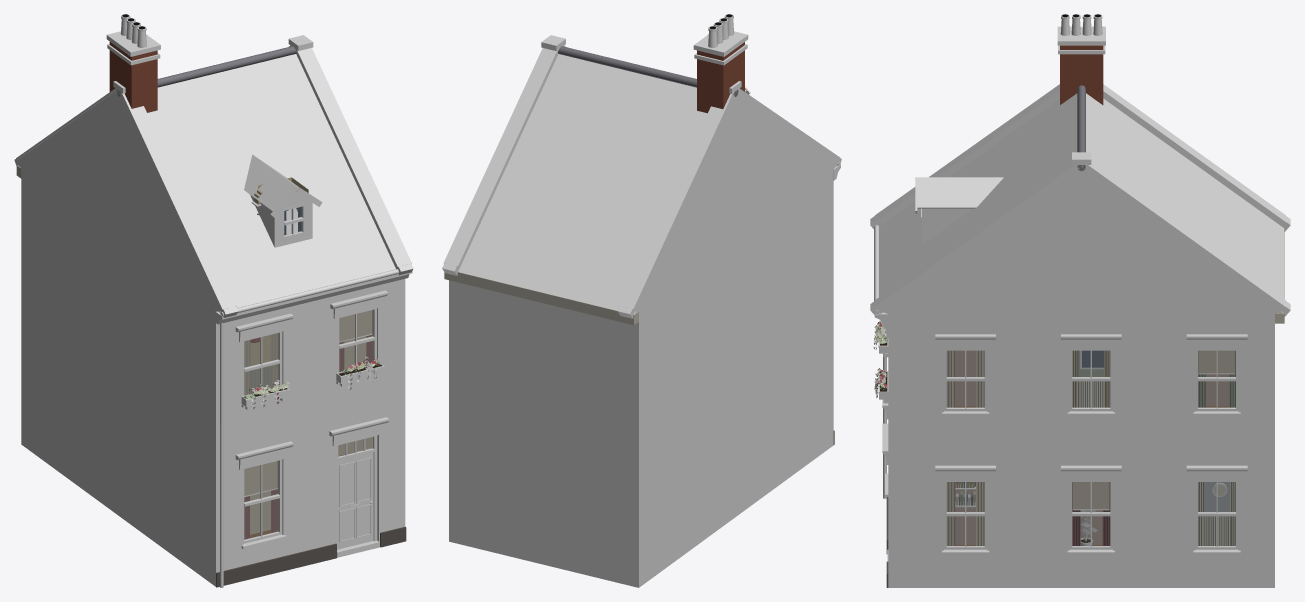
The model's file is GateStreet_BehindInner2.glb.
3 renders of one model, left to right at view 1: azimuth 30°, elevation 25°; view 2: azimuth 150°, elevation 25°; view 3: azimuth 270°, elevation 25°, orthographic.
Parts seen in each view (by area): view 1: GateStreet_BehindInner2; view 2: GateStreet_BehindInner2; view 3: GateStreet_BehindInner2.
Boxes of the visible parts, x1,y1,x2,y2 form: GateStreet_BehindInner2: [14, 14, 413, 587]; GateStreet_BehindInner2: [442, 14, 841, 587]; GateStreet_BehindInner2: [870, 14, 1290, 587].
Bounding box in the file's own units: 4.63 × 11.13 × 8.7.
